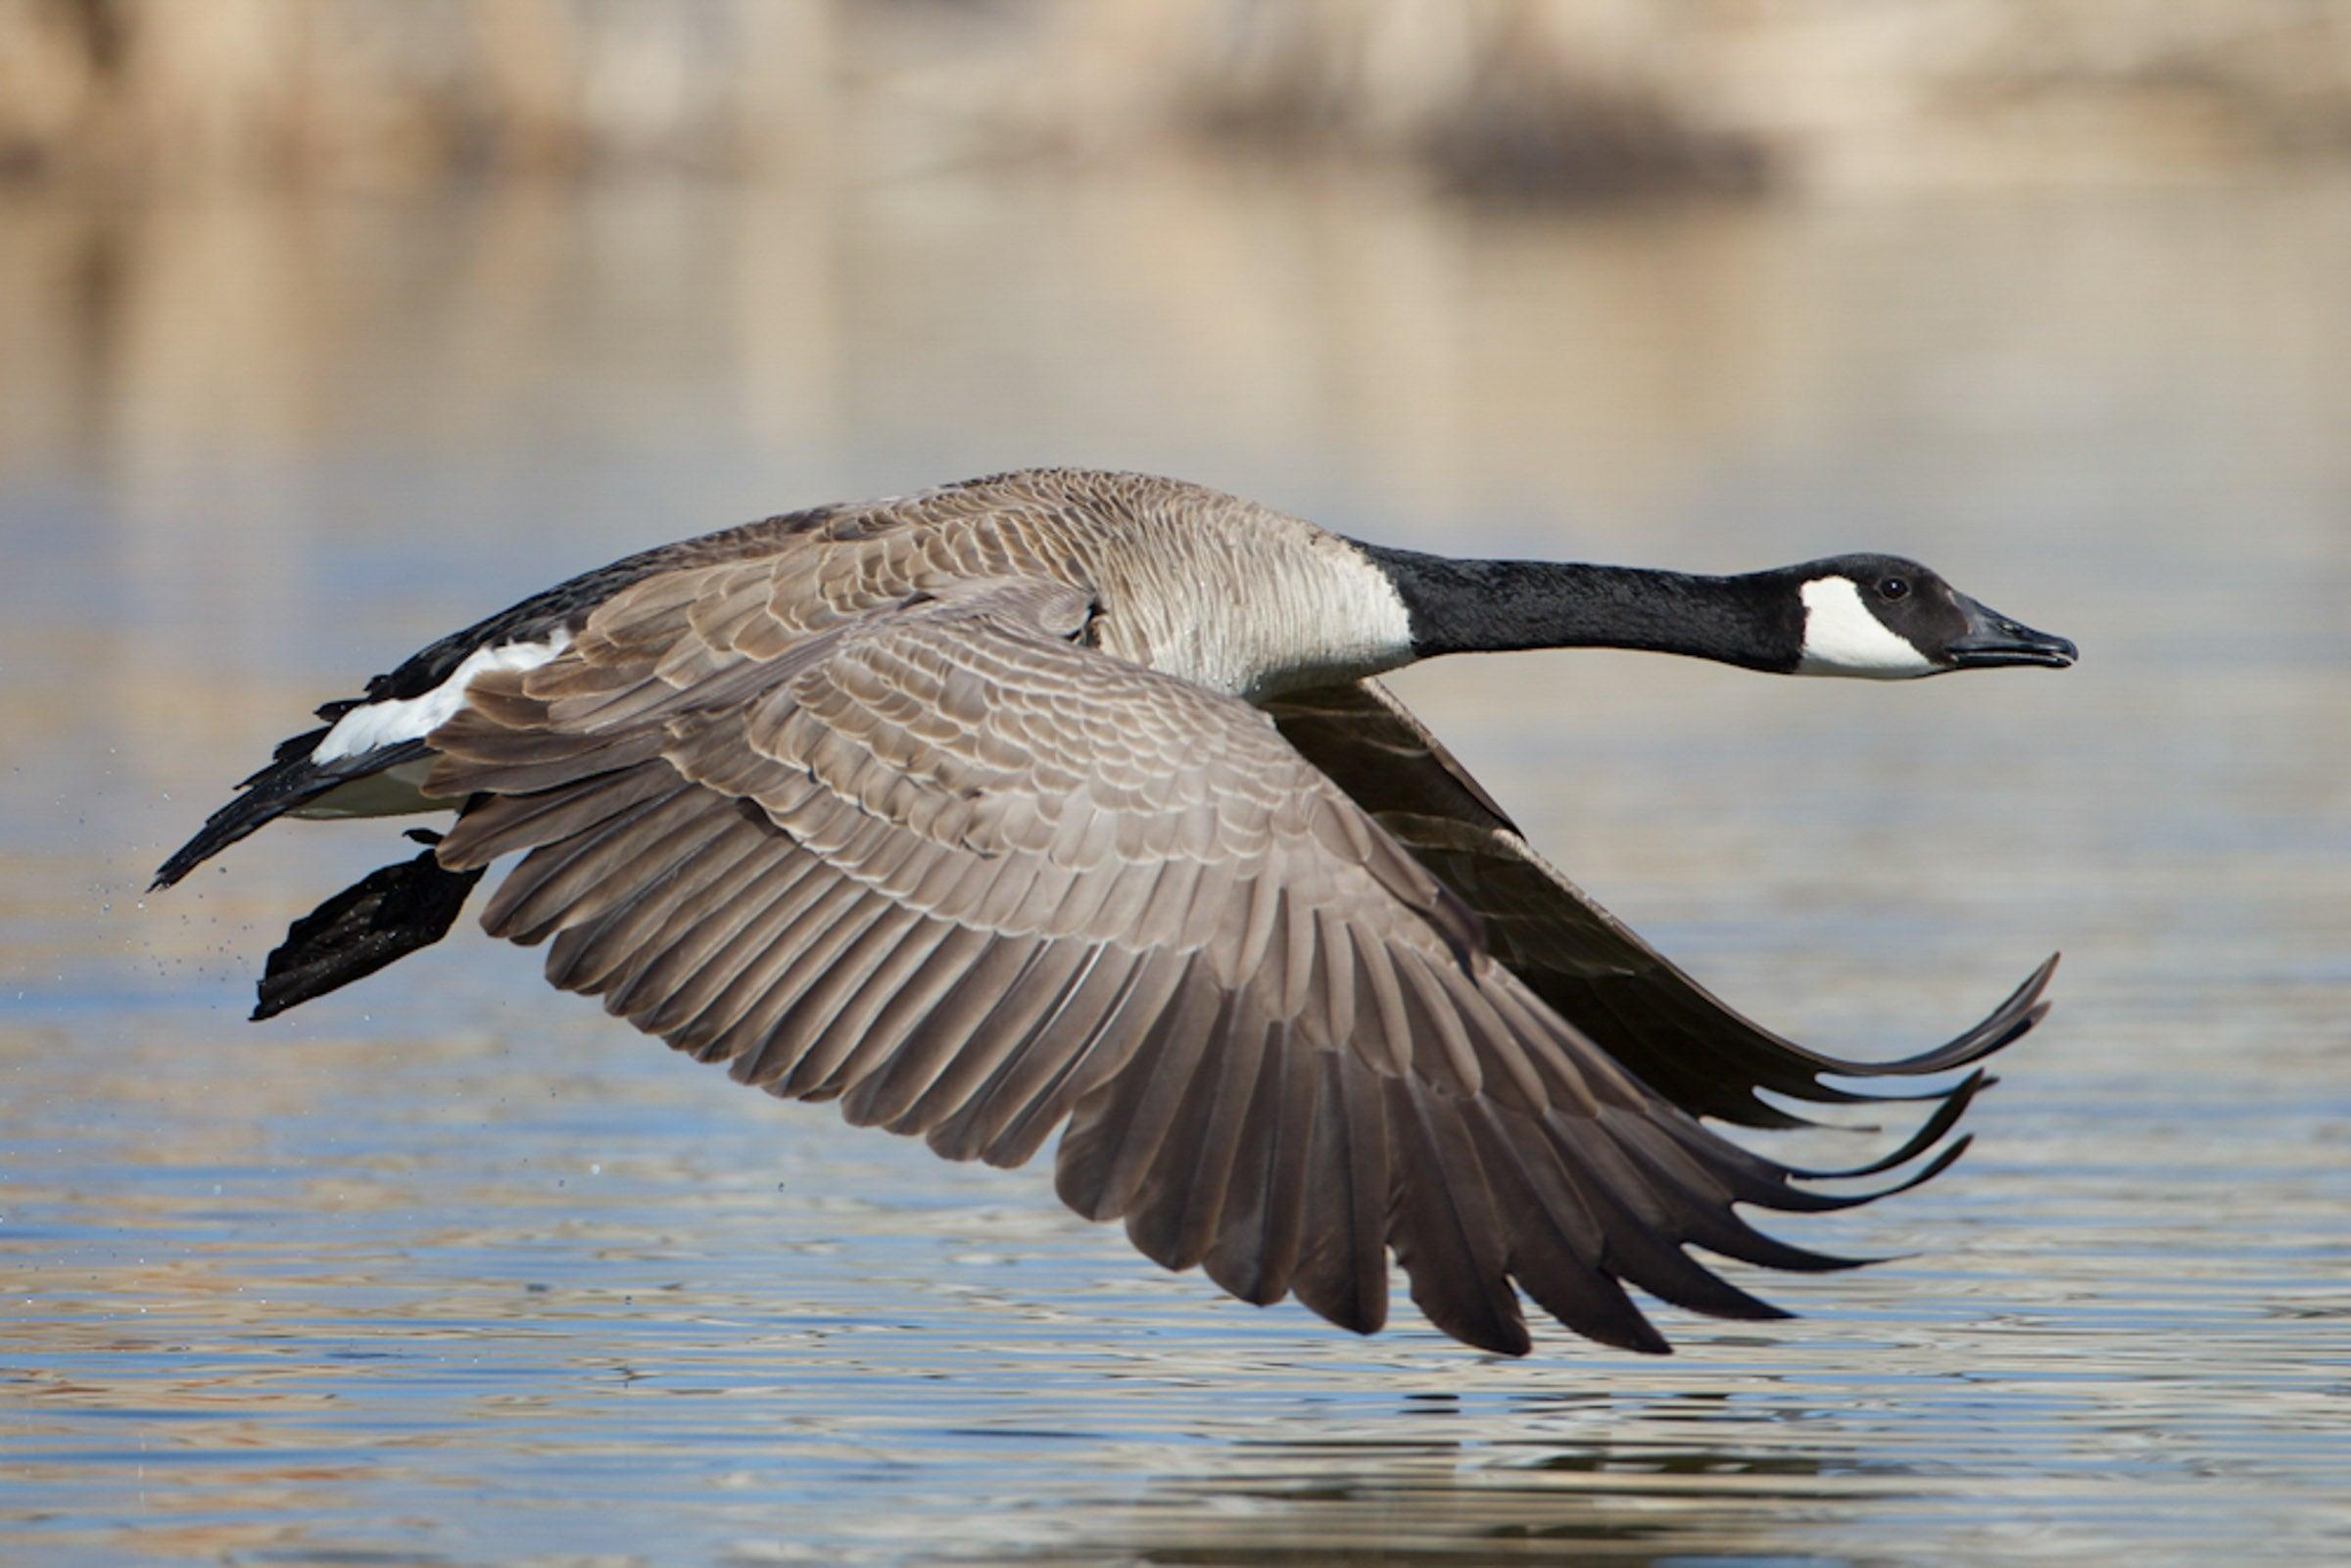Canadian-Goose: (165, 469, 2083, 1319)
